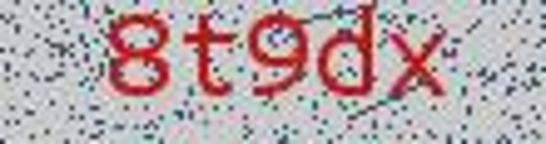8: (97, 7, 176, 107)
9: (245, 6, 311, 111)
d: (315, 2, 381, 104)
t: (178, 5, 238, 105)
x: (383, 22, 455, 112)
